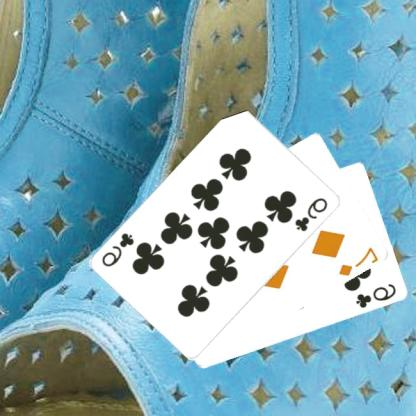6C: (355, 280, 400, 310)
7D: (338, 244, 381, 278)
9C: (294, 195, 332, 233), (101, 230, 138, 268)
